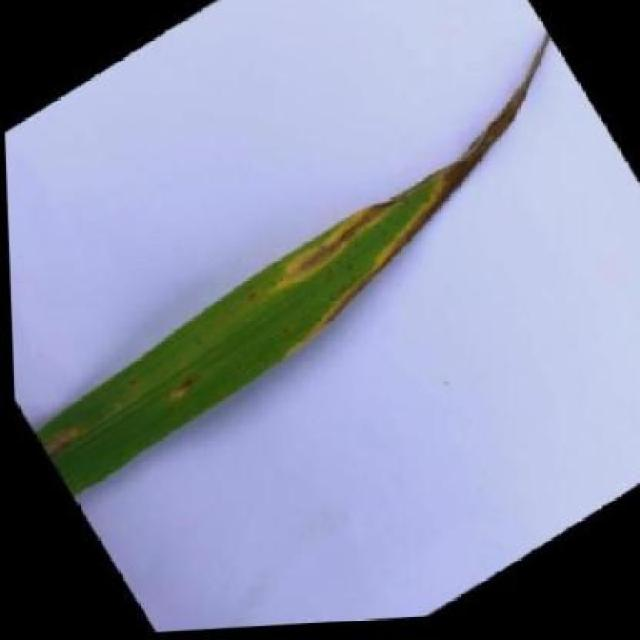Rice False Smut: (1, 36, 640, 533)
